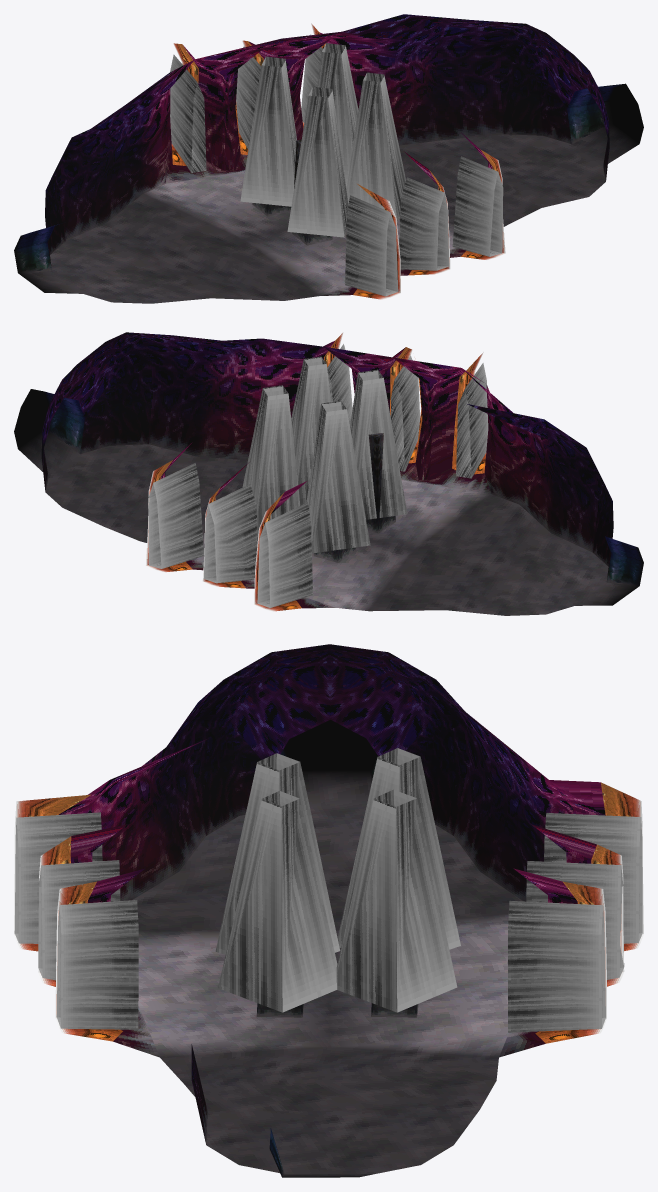
Rendered from AlienChest.glb.
3 renders of one model, top to bottom at view 1: azimuth 30°, elevation 25°; view 2: azimuth 150°, elevation 25°; view 3: azimuth 270°, elevation 25°, orthographic. The views are drawn at different scales.
Visible parts, largest first — view 1: AlienChest_Alpha_45, AlienChest_15, AlienChest_12, AlienChest_31, AlienChest_9, AlienChest_13, AlienChest_29, AlienChest_7, AlienChest_14, AlienChest_10, AlienChest_6, AlienChest_18 (+17 smaller); view 2: AlienChest_Alpha_45, AlienChest_15, AlienChest_31, AlienChest_12, AlienChest_29, AlienChest_7, AlienChest_9, AlienChest_13, AlienChest_14, AlienChest_27, AlienChest_32, AlienChest_10 (+17 smaller); view 3: AlienChest_Alpha_45, AlienChest_15, AlienChest_31, AlienChest_7, AlienChest_12, AlienChest_4, AlienChest_14, AlienChest_36, AlienChest_29, AlienChest_19, AlienChest_28, AlienChest_11 (+13 smaller).
Part boxes in pixels (x1,y1,x2,y2): AlienChest_Alpha_45: (170,34,503,296); AlienChest_15: (18,124,639,303); AlienChest_12: (60,86,503,295); AlienChest_31: (102,88,465,294); AlienChest_9: (60,50,499,192); AlienChest_13: (45,95,609,267); AlienChest_29: (102,51,439,177); AlienChest_7: (183,38,608,184); AlienChest_14: (45,86,542,254); AlienChest_10: (198,59,609,189); AlienChest_6: (62,27,509,157); AlienChest_18: (14,101,612,272); AlienChest_Alpha_45: (148,344,488,607); AlienChest_15: (18,432,639,615); AlienChest_31: (186,404,556,600); AlienChest_12: (149,395,597,552); AlienChest_29: (200,366,556,480); AlienChest_7: (42,346,464,513); AlienChest_9: (153,360,597,502); AlienChest_13: (41,404,613,581); AlienChest_14: (109,395,613,566); AlienChest_27: (190,338,555,442); AlienChest_32: (189,409,520,608); AlienChest_10: (41,368,459,500); AlienChest_Alpha_45: (14,748,642,1032); AlienChest_15: (132,770,522,1177); AlienChest_31: (113,803,539,1057); AlienChest_7: (70,693,596,901); AlienChest_12: (162,771,493,1144); AlienChest_4: (252,672,407,738); AlienChest_14: (191,761,468,835); AlienChest_36: (15,782,642,911); AlienChest_29: (117,747,539,849); AlienChest_19: (284,719,376,770); AlienChest_28: (58,737,605,815); AlienChest_11: (191,720,468,770).
Bounding box in the file's own units: 306 × 76 × 195.
Materials: 46 (46 with a texture image).
